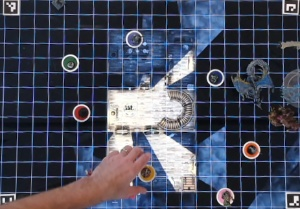blue: (204, 66, 223, 88)
green: (59, 52, 80, 73)
orange: (238, 137, 262, 160)
pink: (213, 186, 235, 206)
red: (71, 104, 90, 121)
violet: (124, 29, 146, 47)
yellow: (135, 163, 155, 182)
